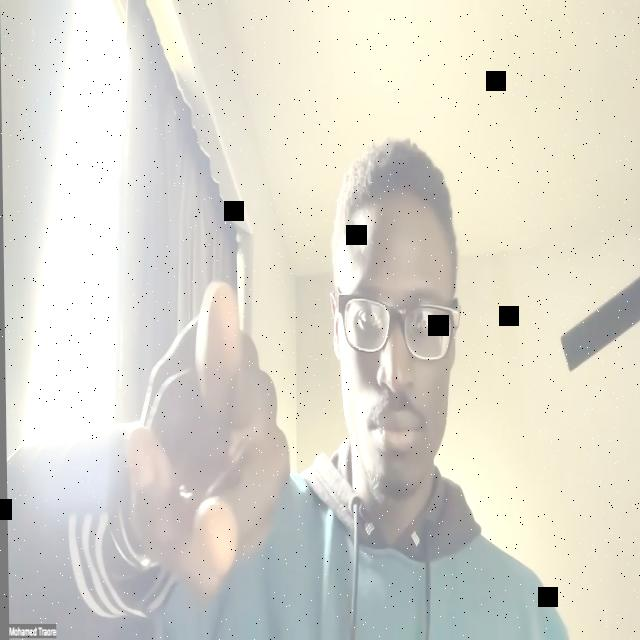Scissors: (131, 278, 291, 600)
